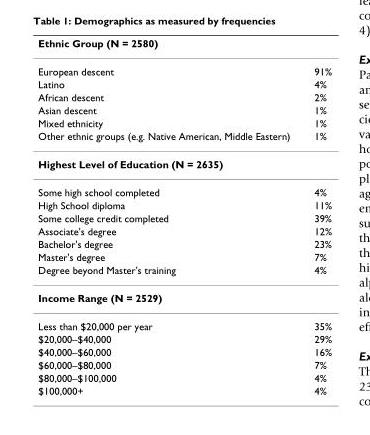table: (37, 36, 331, 396)
table column: (37, 36, 301, 396), (301, 36, 331, 396)
table column header: (37, 36, 331, 77)
table projected row header: (37, 149, 331, 177), (37, 283, 331, 311)
table row: (37, 149, 331, 177), (37, 283, 331, 311), (37, 56, 331, 77), (37, 177, 331, 198), (37, 262, 331, 283), (37, 311, 331, 332), (37, 36, 331, 56), (37, 129, 331, 149), (37, 77, 331, 90), (37, 90, 331, 103), (37, 103, 331, 116), (37, 116, 331, 129), (37, 198, 331, 211), (37, 211, 331, 224), (37, 224, 331, 237), (37, 237, 331, 250), (37, 332, 331, 345), (37, 357, 331, 370), (37, 370, 331, 383), (37, 383, 331, 396), (37, 250, 331, 262), (37, 345, 331, 357)
table spanning cell: (37, 36, 331, 56)
